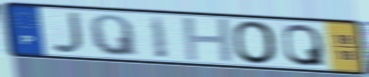H: (180, 17, 238, 64)
I: (148, 14, 171, 60)
J: (49, 11, 86, 55)
O: (230, 20, 280, 66)
Q: (87, 13, 141, 58), (281, 23, 328, 68)
